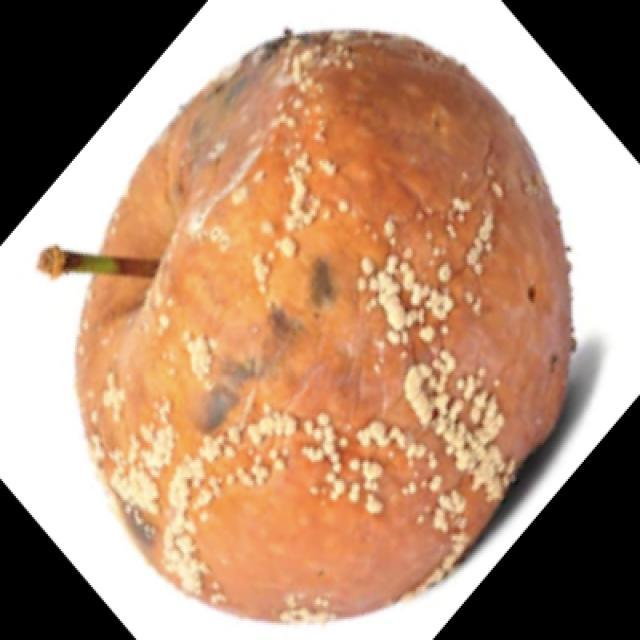Rotten: (23, 26, 586, 640)
